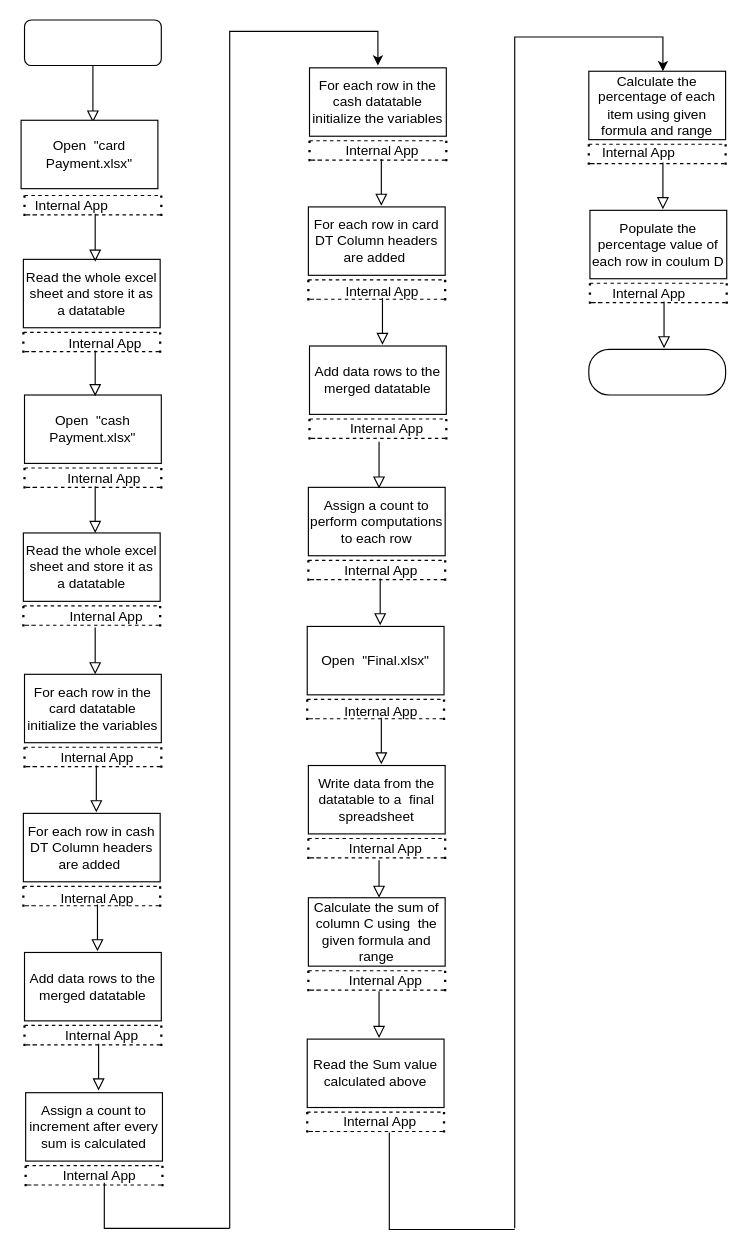
Some shapes in this 748 by 1257 pixel diagram are drawn without their labels. The shapes that lost their labels are listed below. From the top down, each one's box as (x1, y1, x2, y2) in pixels, then its label:
(23, 19, 161, 66): Start
(588, 348, 726, 395): End
